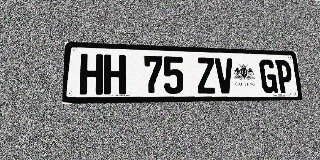5: (163, 56, 184, 94)
7: (143, 55, 164, 94)
G: (259, 59, 278, 93)
H: (79, 54, 103, 95), (104, 54, 126, 94)
P: (275, 60, 294, 93)
V: (215, 58, 235, 94)
Z: (196, 57, 216, 94)
